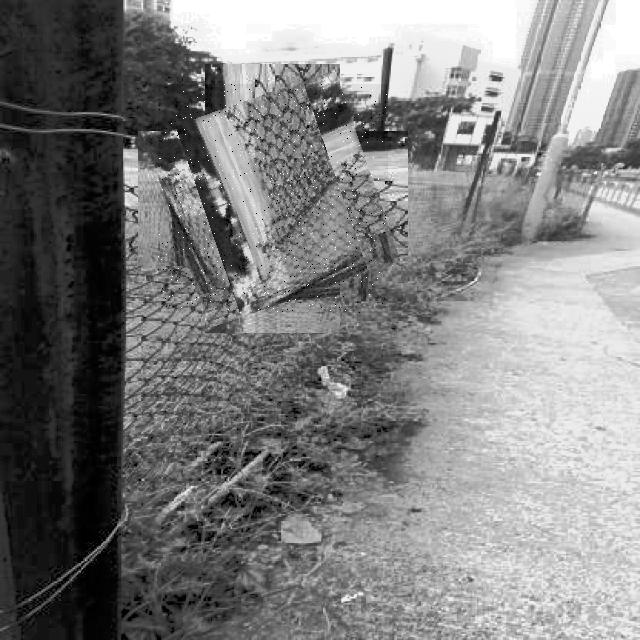anomaly-fence: (158, 84, 388, 313)
